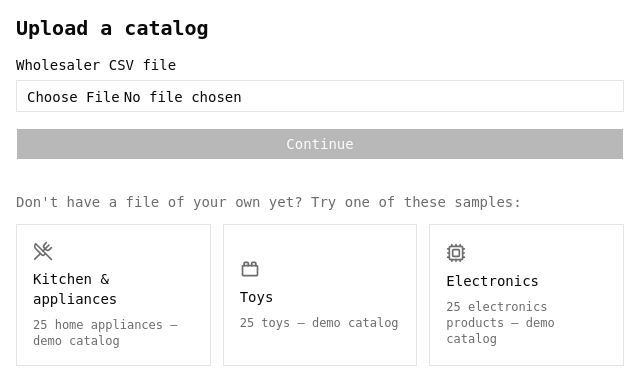
App (ScanWizard) › skips MappingStep and lands on ScopeEstimateStep when a sample category is chosen
Step 1. Click the button "Kitchen & appliances 25 home appliances — demo catalog" → (113, 295), box [16, 224, 211, 366]
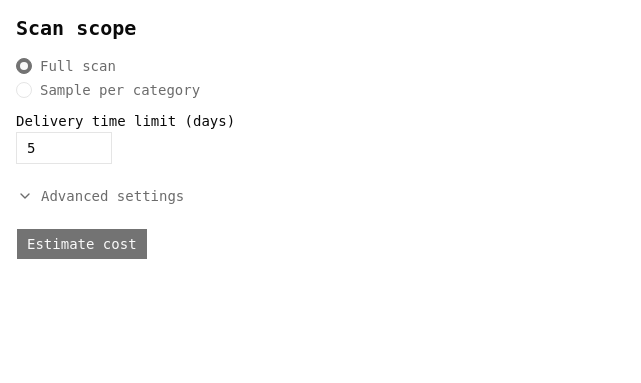
Expected: the heading "Scan scope" is shown, [16, 16, 136, 40]
